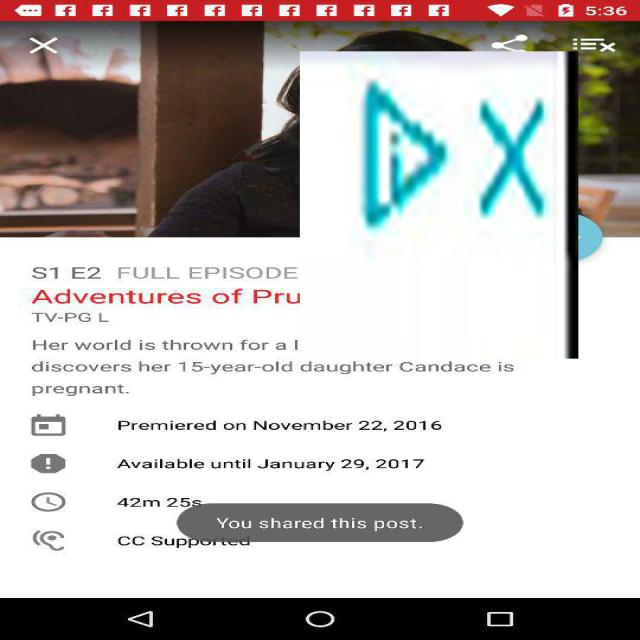sneaking: (300, 51, 578, 359)
